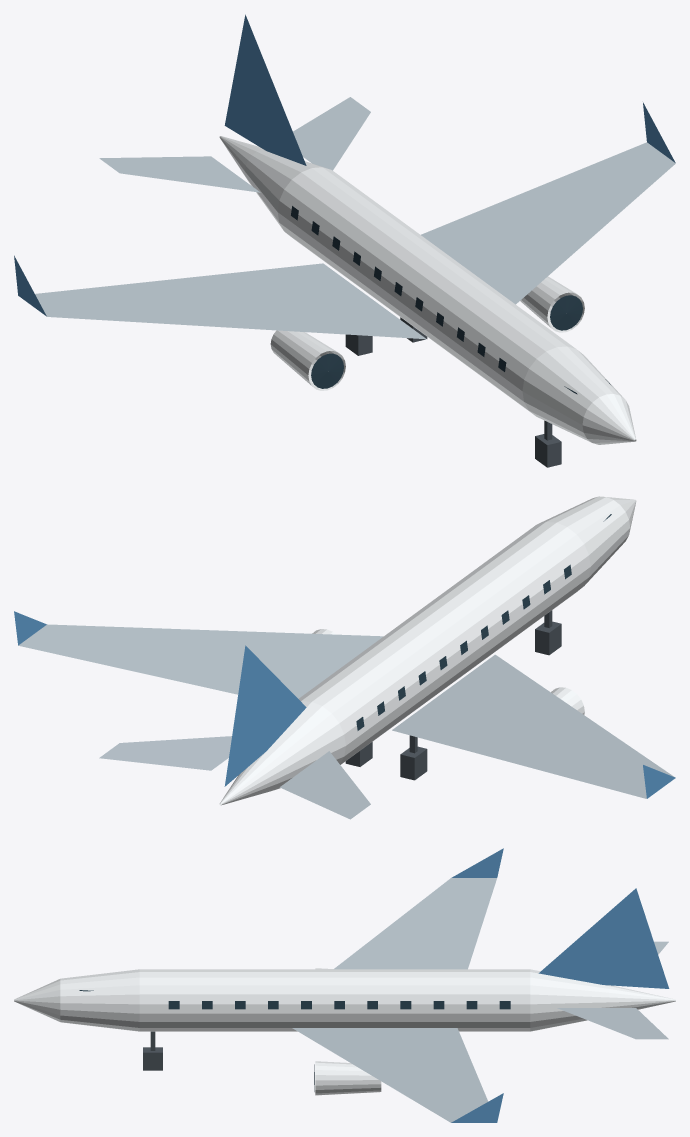
The model's file is b737-UAL.gltf.
3 renders of one model, top to bottom at view 1: azimuth 30°, elevation 25°; view 2: azimuth 150°, elevation 25°; view 3: azimuth 270°, elevation 25°, orthographic. The views are drawn at different scales.
Parts seen in each view (by area): view 1: object 1, Gear; view 2: object 1, Gear; view 3: object 1, Gear.
Part boxes in pixels (box(x1,y1,x2,y2)): object 1: box(14, 14, 675, 444); Gear: box(345, 317, 561, 467); object 1: box(14, 496, 675, 819); Gear: box(345, 610, 561, 780); object 1: box(14, 848, 675, 1122); Gear: box(143, 1031, 162, 1070).
Bounding box in the file's own units: 35 × 12 × 40.
